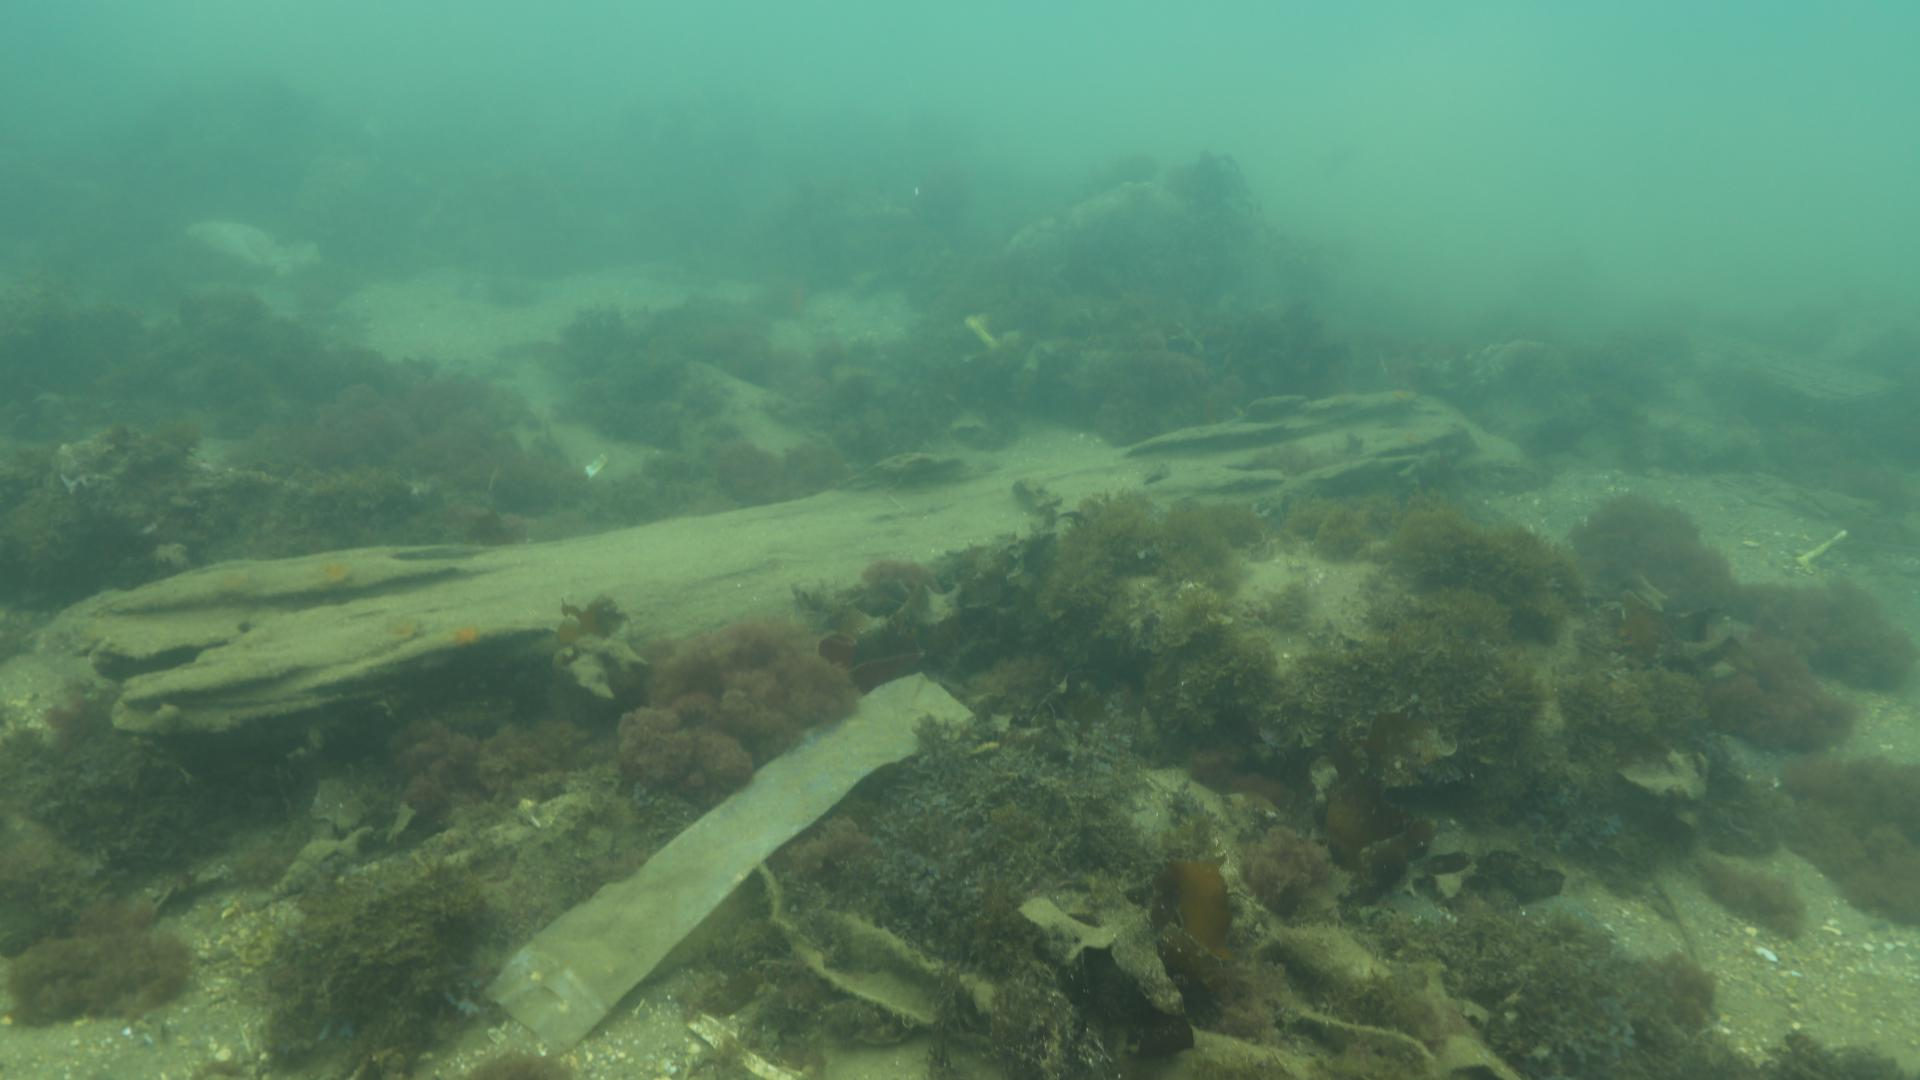wood: (88, 389, 1540, 735)
